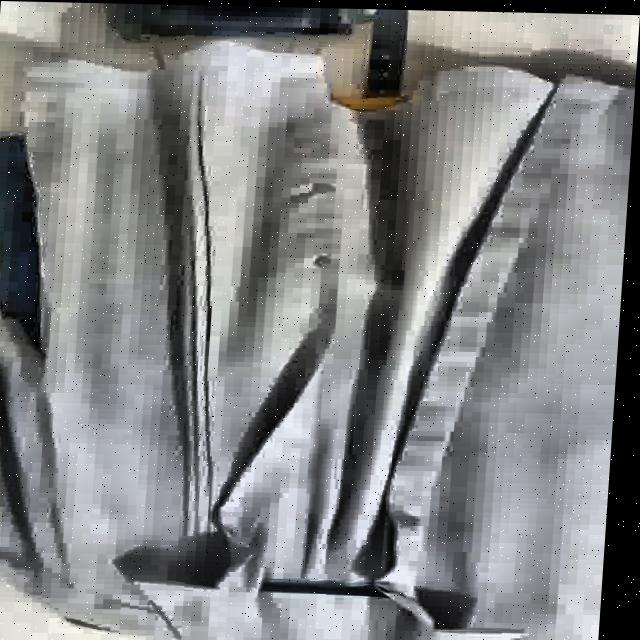clothes: (0, 46, 637, 640)
